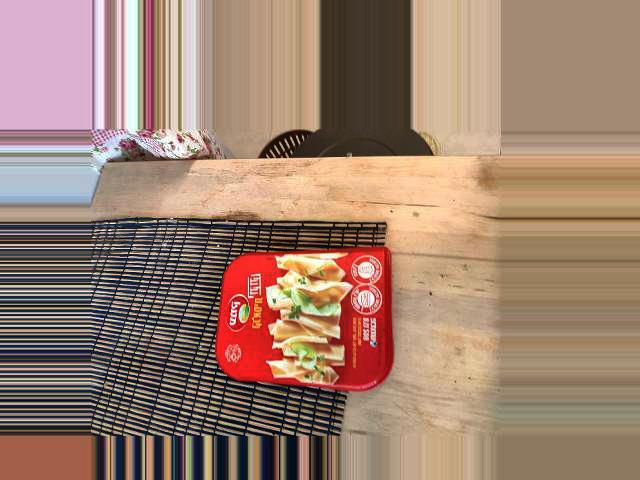cheese: (150, 258, 274, 448)
